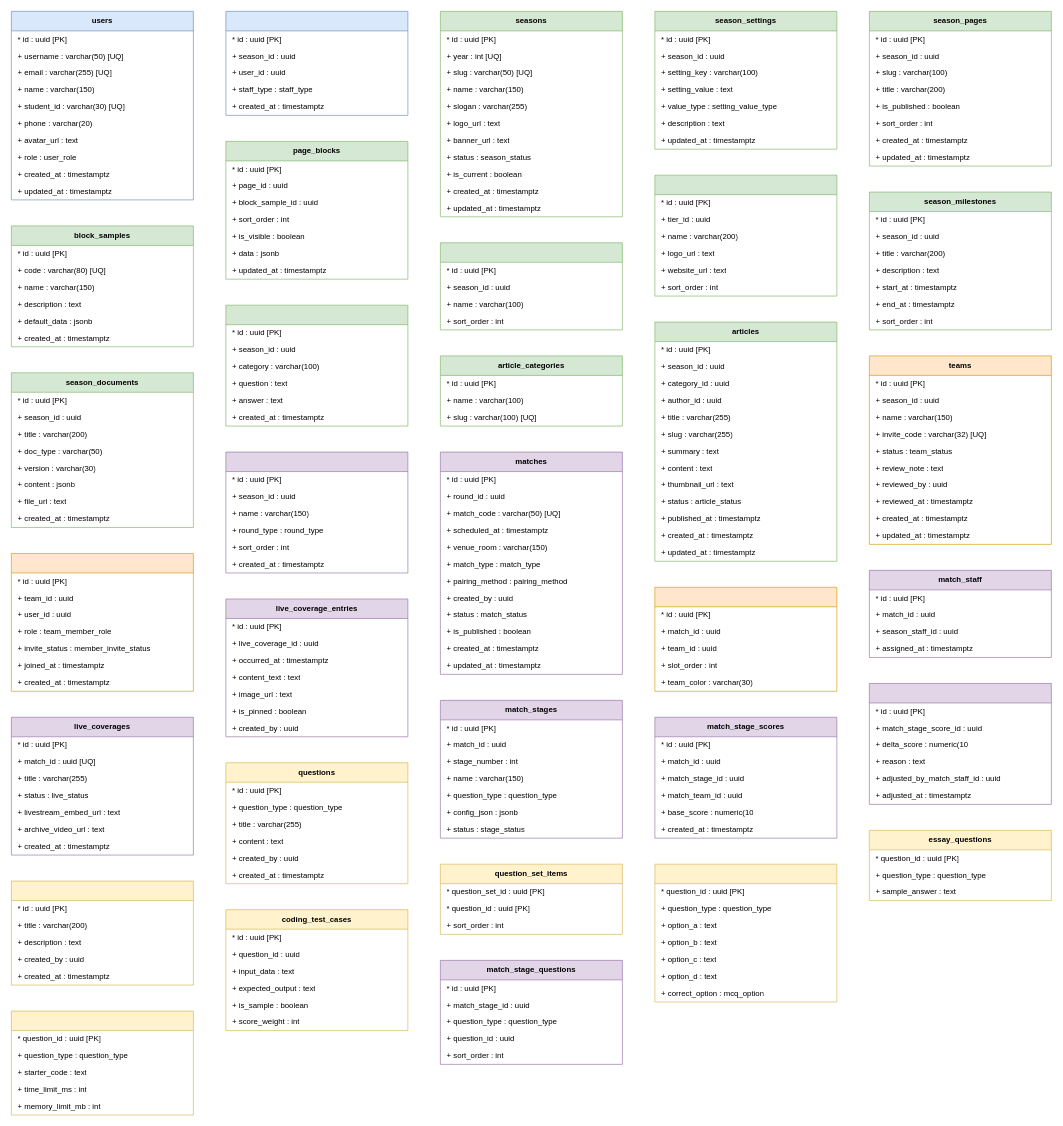
The diagram is 1063 pixels wide and 1126 high, and some of its shapes have lost their labels. The box of each missing label's shape, as (x1, y1, x2, y2) in pixels:
coding_questions: (11, 1010, 193, 1115)
match_teams: (654, 587, 837, 691)
mcq_questions: (654, 864, 837, 1002)
question_sets: (11, 880, 193, 985)
rounds: (225, 451, 408, 573)
score_adjustments: (869, 683, 1051, 804)
season_faqs: (225, 305, 408, 426)
season_sponsors: (654, 175, 837, 296)
season_staff: (225, 11, 408, 115)
sponsor_tiers: (440, 242, 622, 330)
team_members: (11, 553, 193, 691)
